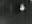person: (20, 4, 26, 14)
